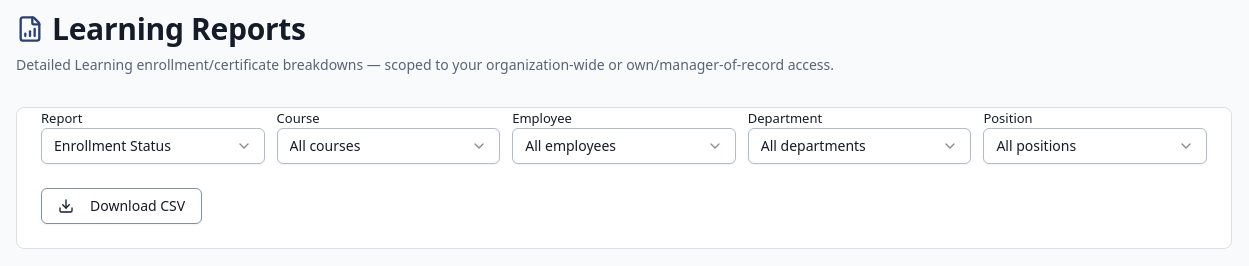
Test: Learning Reports page › offers course/employee/department/position filters
Click the dropdown with test id "select-learning-report-course".
click(388, 146)  # box [277, 128, 500, 164]
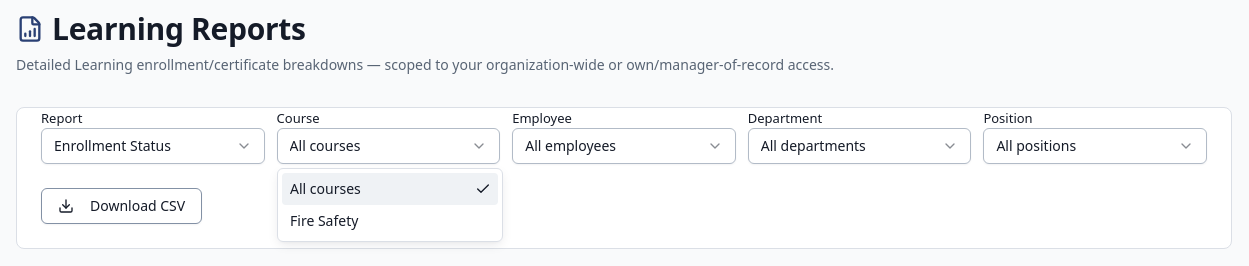
Check: the option "Fire Safety" is shown, box [290, 211, 358, 230]
Press Escape
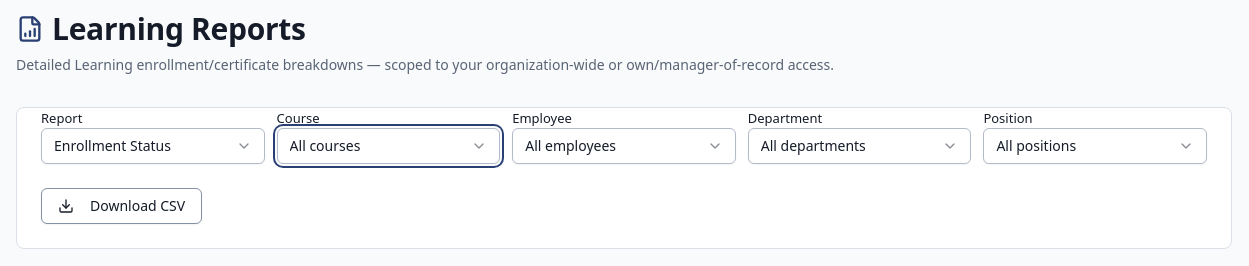
Click the dropdown with test id "select-learning-report-department".
click(860, 146)  # box [748, 128, 971, 164]
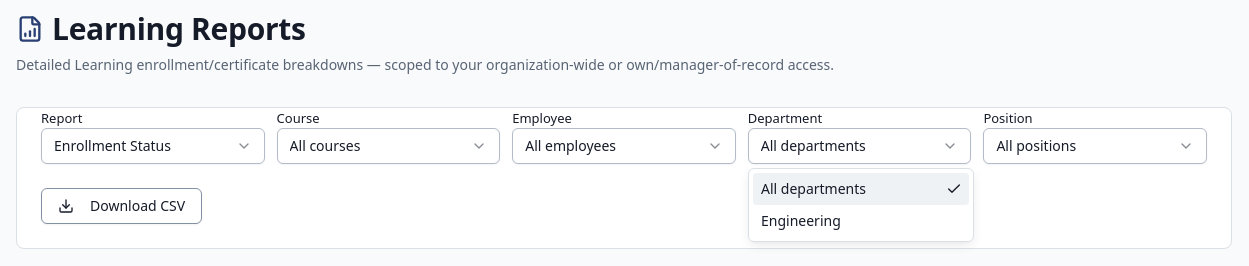
Check: the option "Engineering" is shown, box [761, 211, 841, 230]
